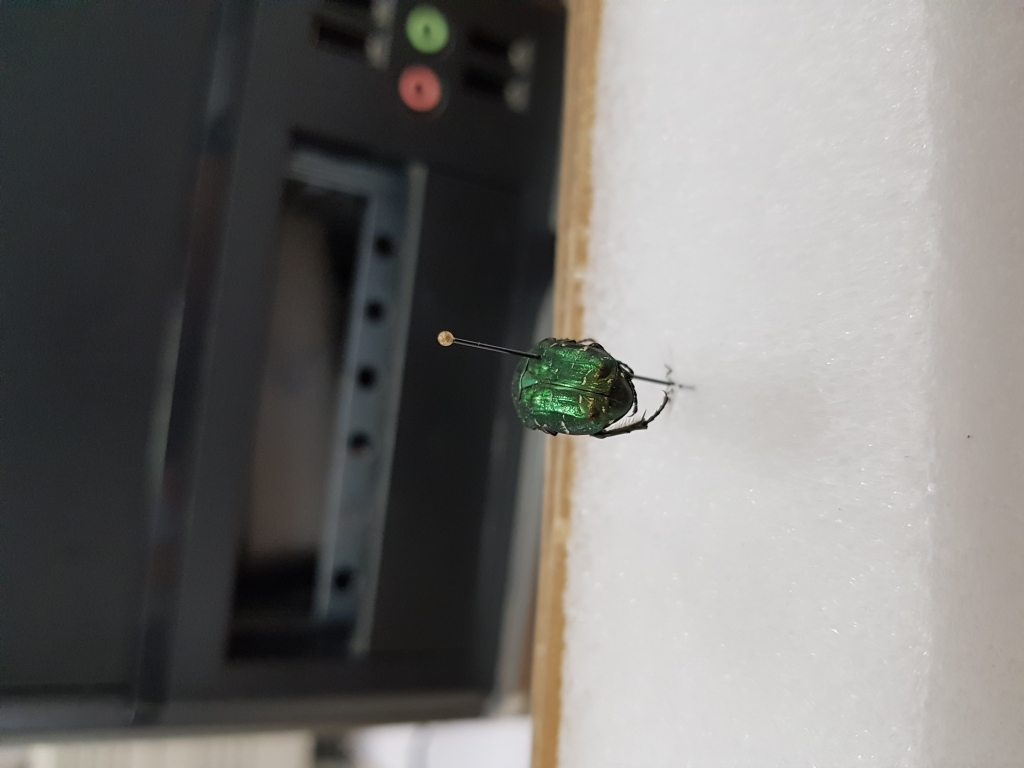Cetonia_kemali: (503, 330, 676, 452)
